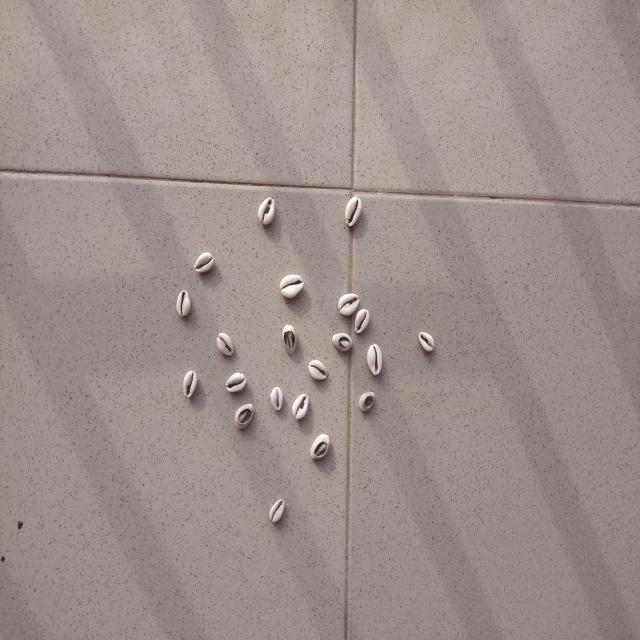facedown: (232, 398, 258, 433), (308, 430, 334, 465), (280, 322, 302, 359), (330, 329, 356, 355), (356, 389, 379, 415)
faceup: (342, 194, 366, 233), (255, 195, 282, 229), (279, 271, 307, 302), (212, 329, 238, 360), (192, 250, 218, 278), (336, 290, 362, 318), (224, 369, 249, 396), (366, 341, 384, 378), (180, 367, 199, 402), (291, 392, 312, 423), (175, 287, 194, 321), (308, 356, 331, 384), (417, 328, 440, 356), (267, 496, 288, 526), (268, 383, 286, 417), (353, 306, 372, 337)
